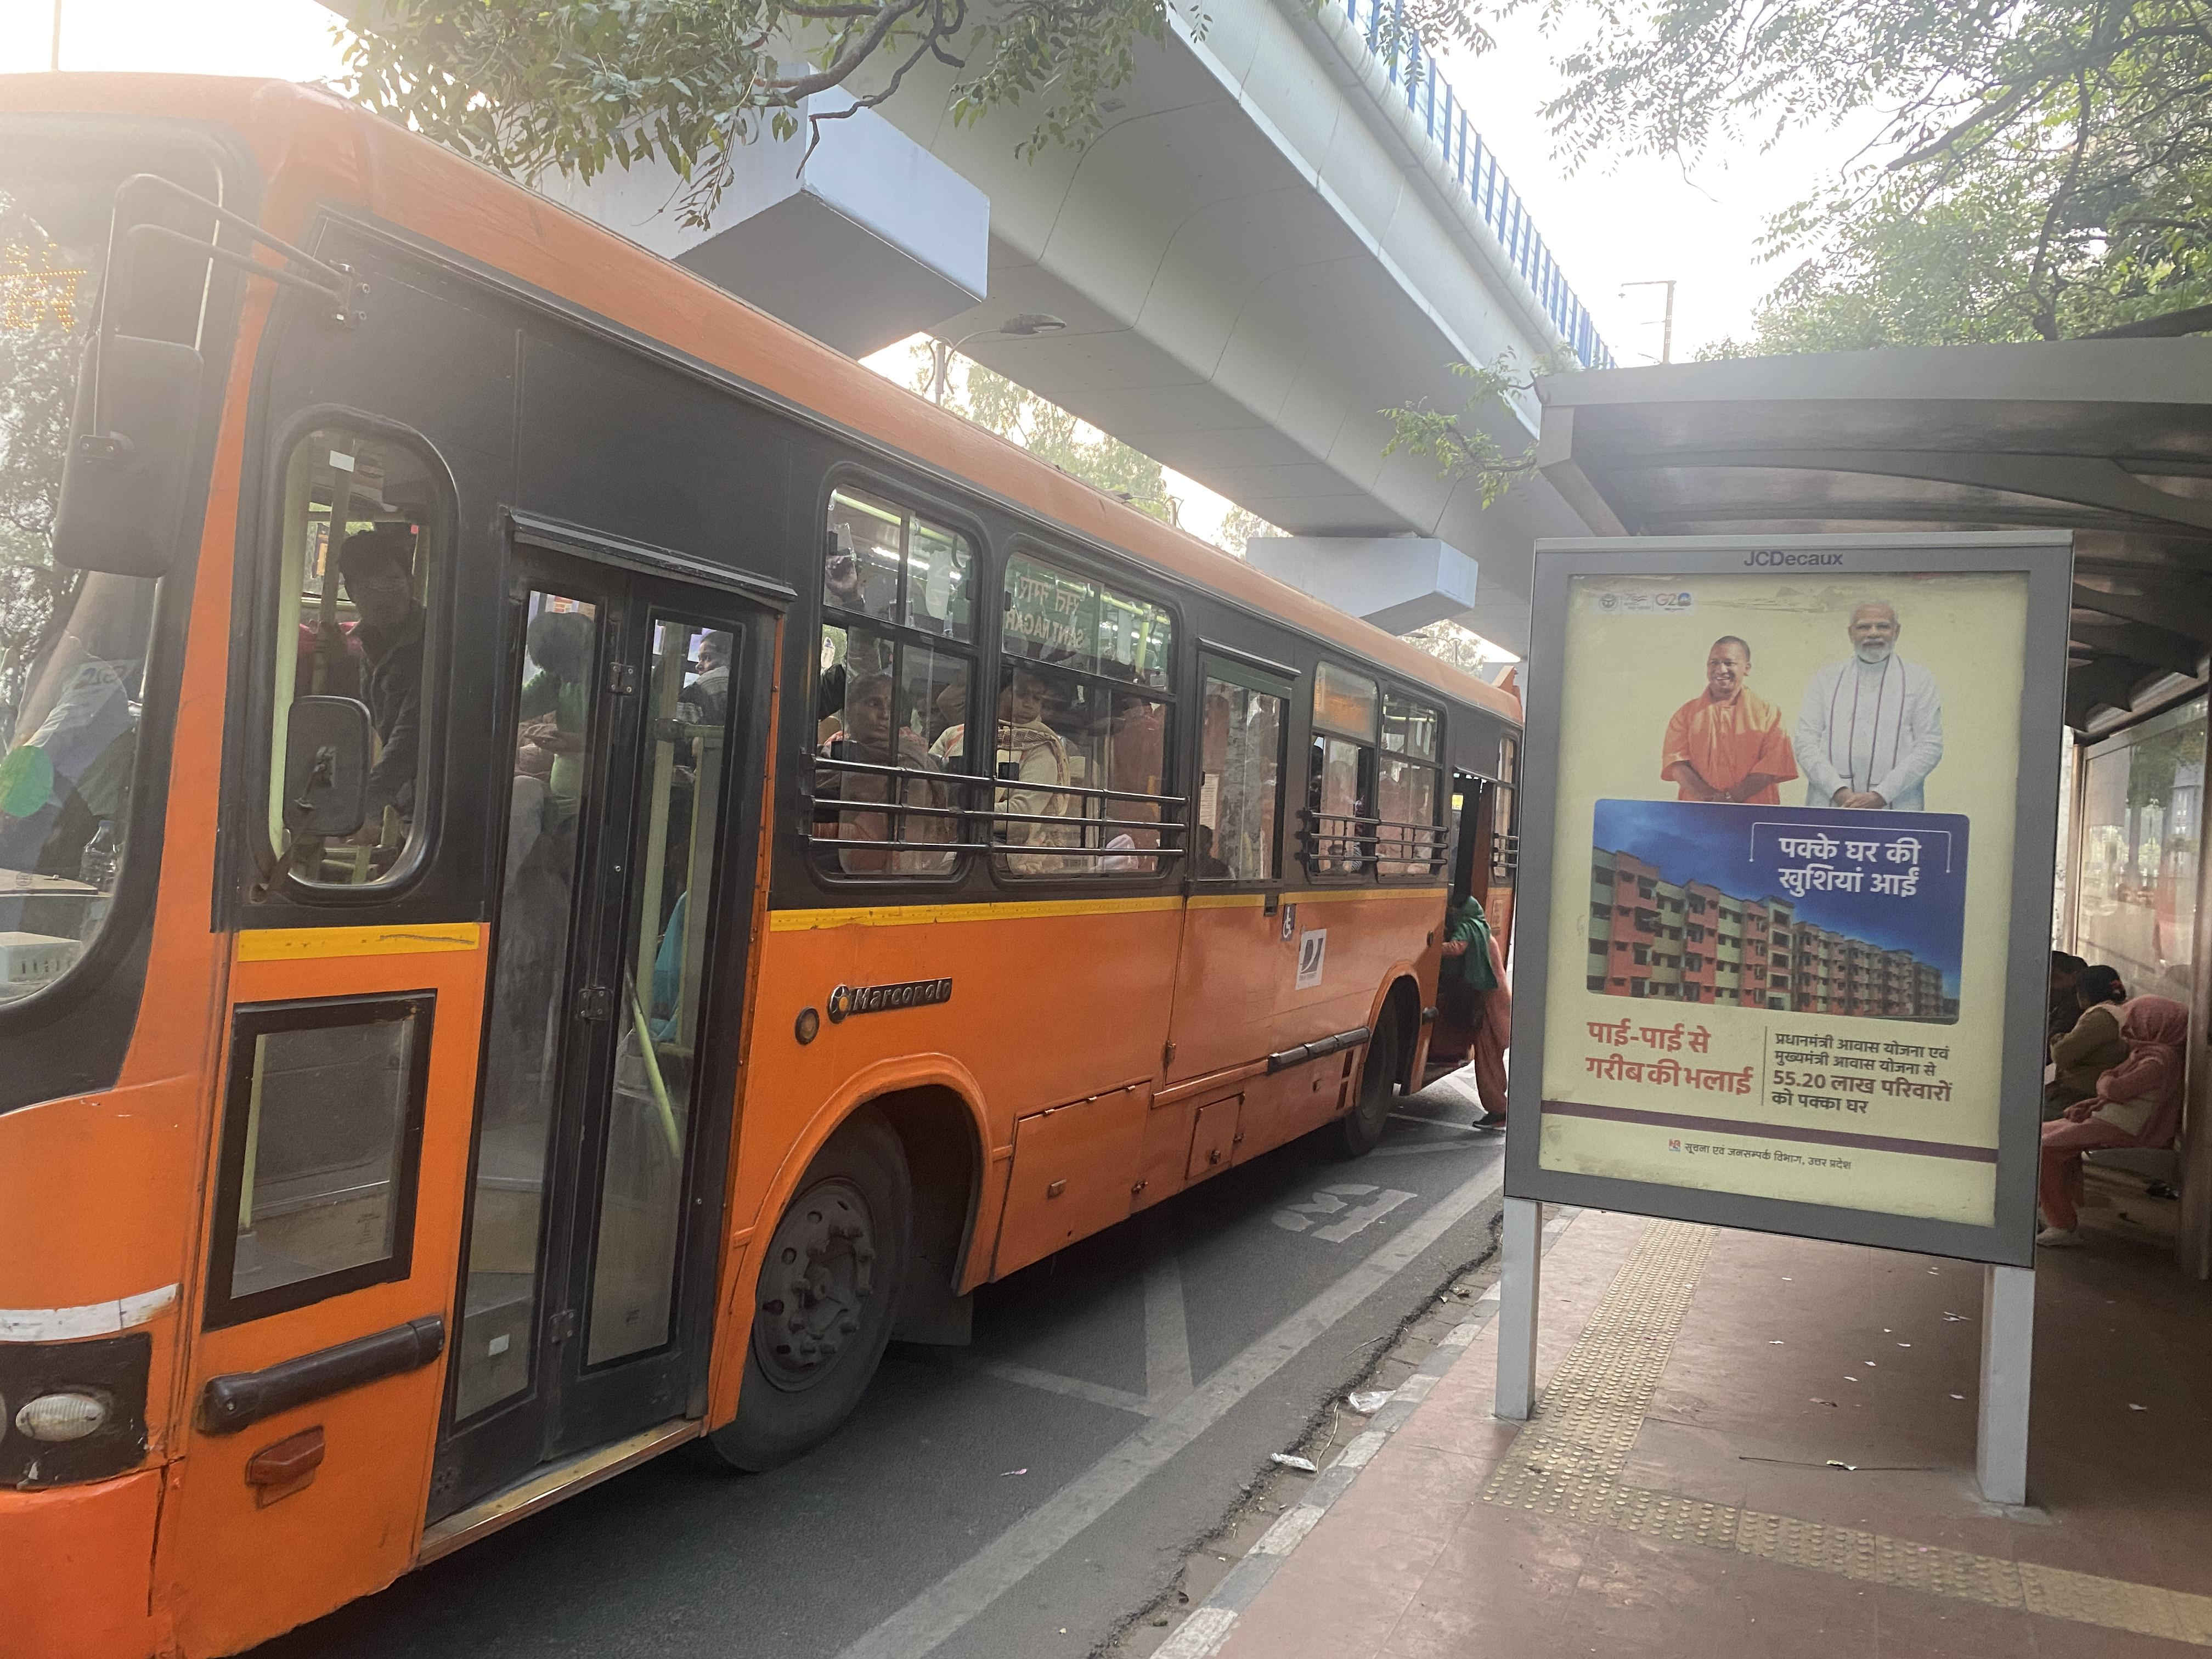Bus: (10, 66, 1552, 1649)
Display Board: (1261, 647, 1449, 763)
